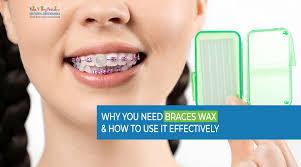Braces: (68, 53, 145, 74)
